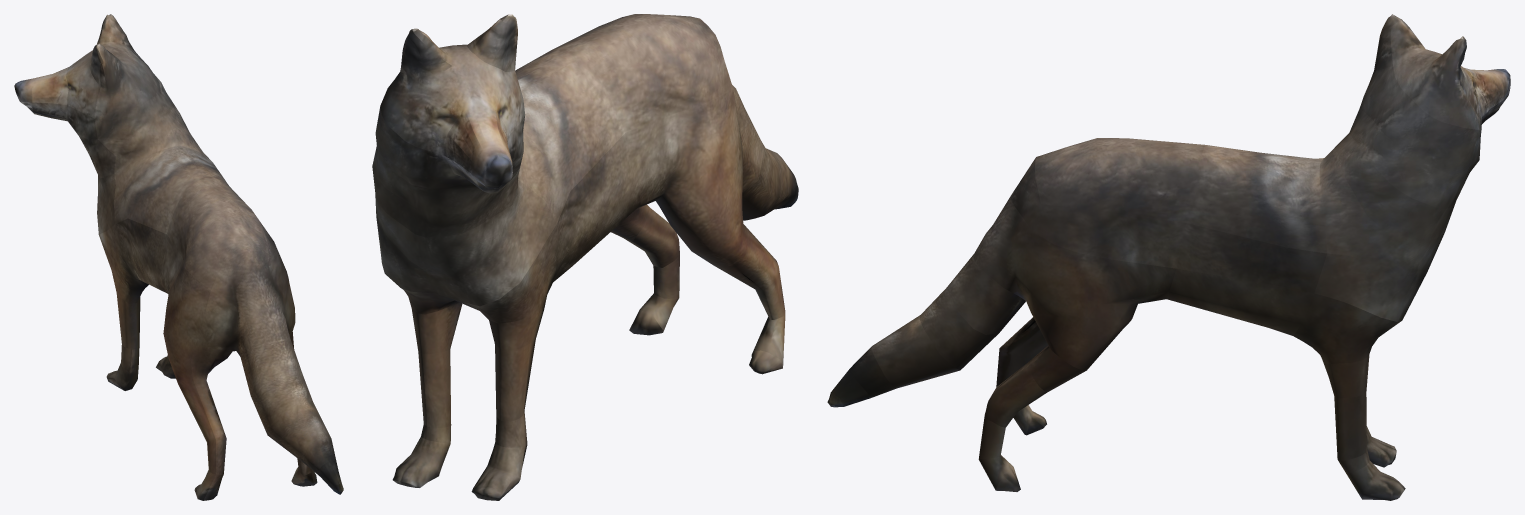
The model's file is Coyote.fbx.
3 renders of one model, left to right at view 1: azimuth 30°, elevation 25°; view 2: azimuth 150°, elevation 25°; view 3: azimuth 270°, elevation 25°, orthographic. The views are drawn at different scales.
Parts seen in each view (by area): view 1: Coyote; view 2: Coyote; view 3: Coyote.
Boxes of the visible parts, left/top/right/bottom form: Coyote: left=14, top=14, right=343, bottom=500; Coyote: left=372, top=14, right=798, bottom=500; Coyote: left=827, top=14, right=1510, bottom=500.
Bounding box in the file's own units: 0.3892 × 0.9118 × 1.28.
Materials: 1 (1 with a texture image).
